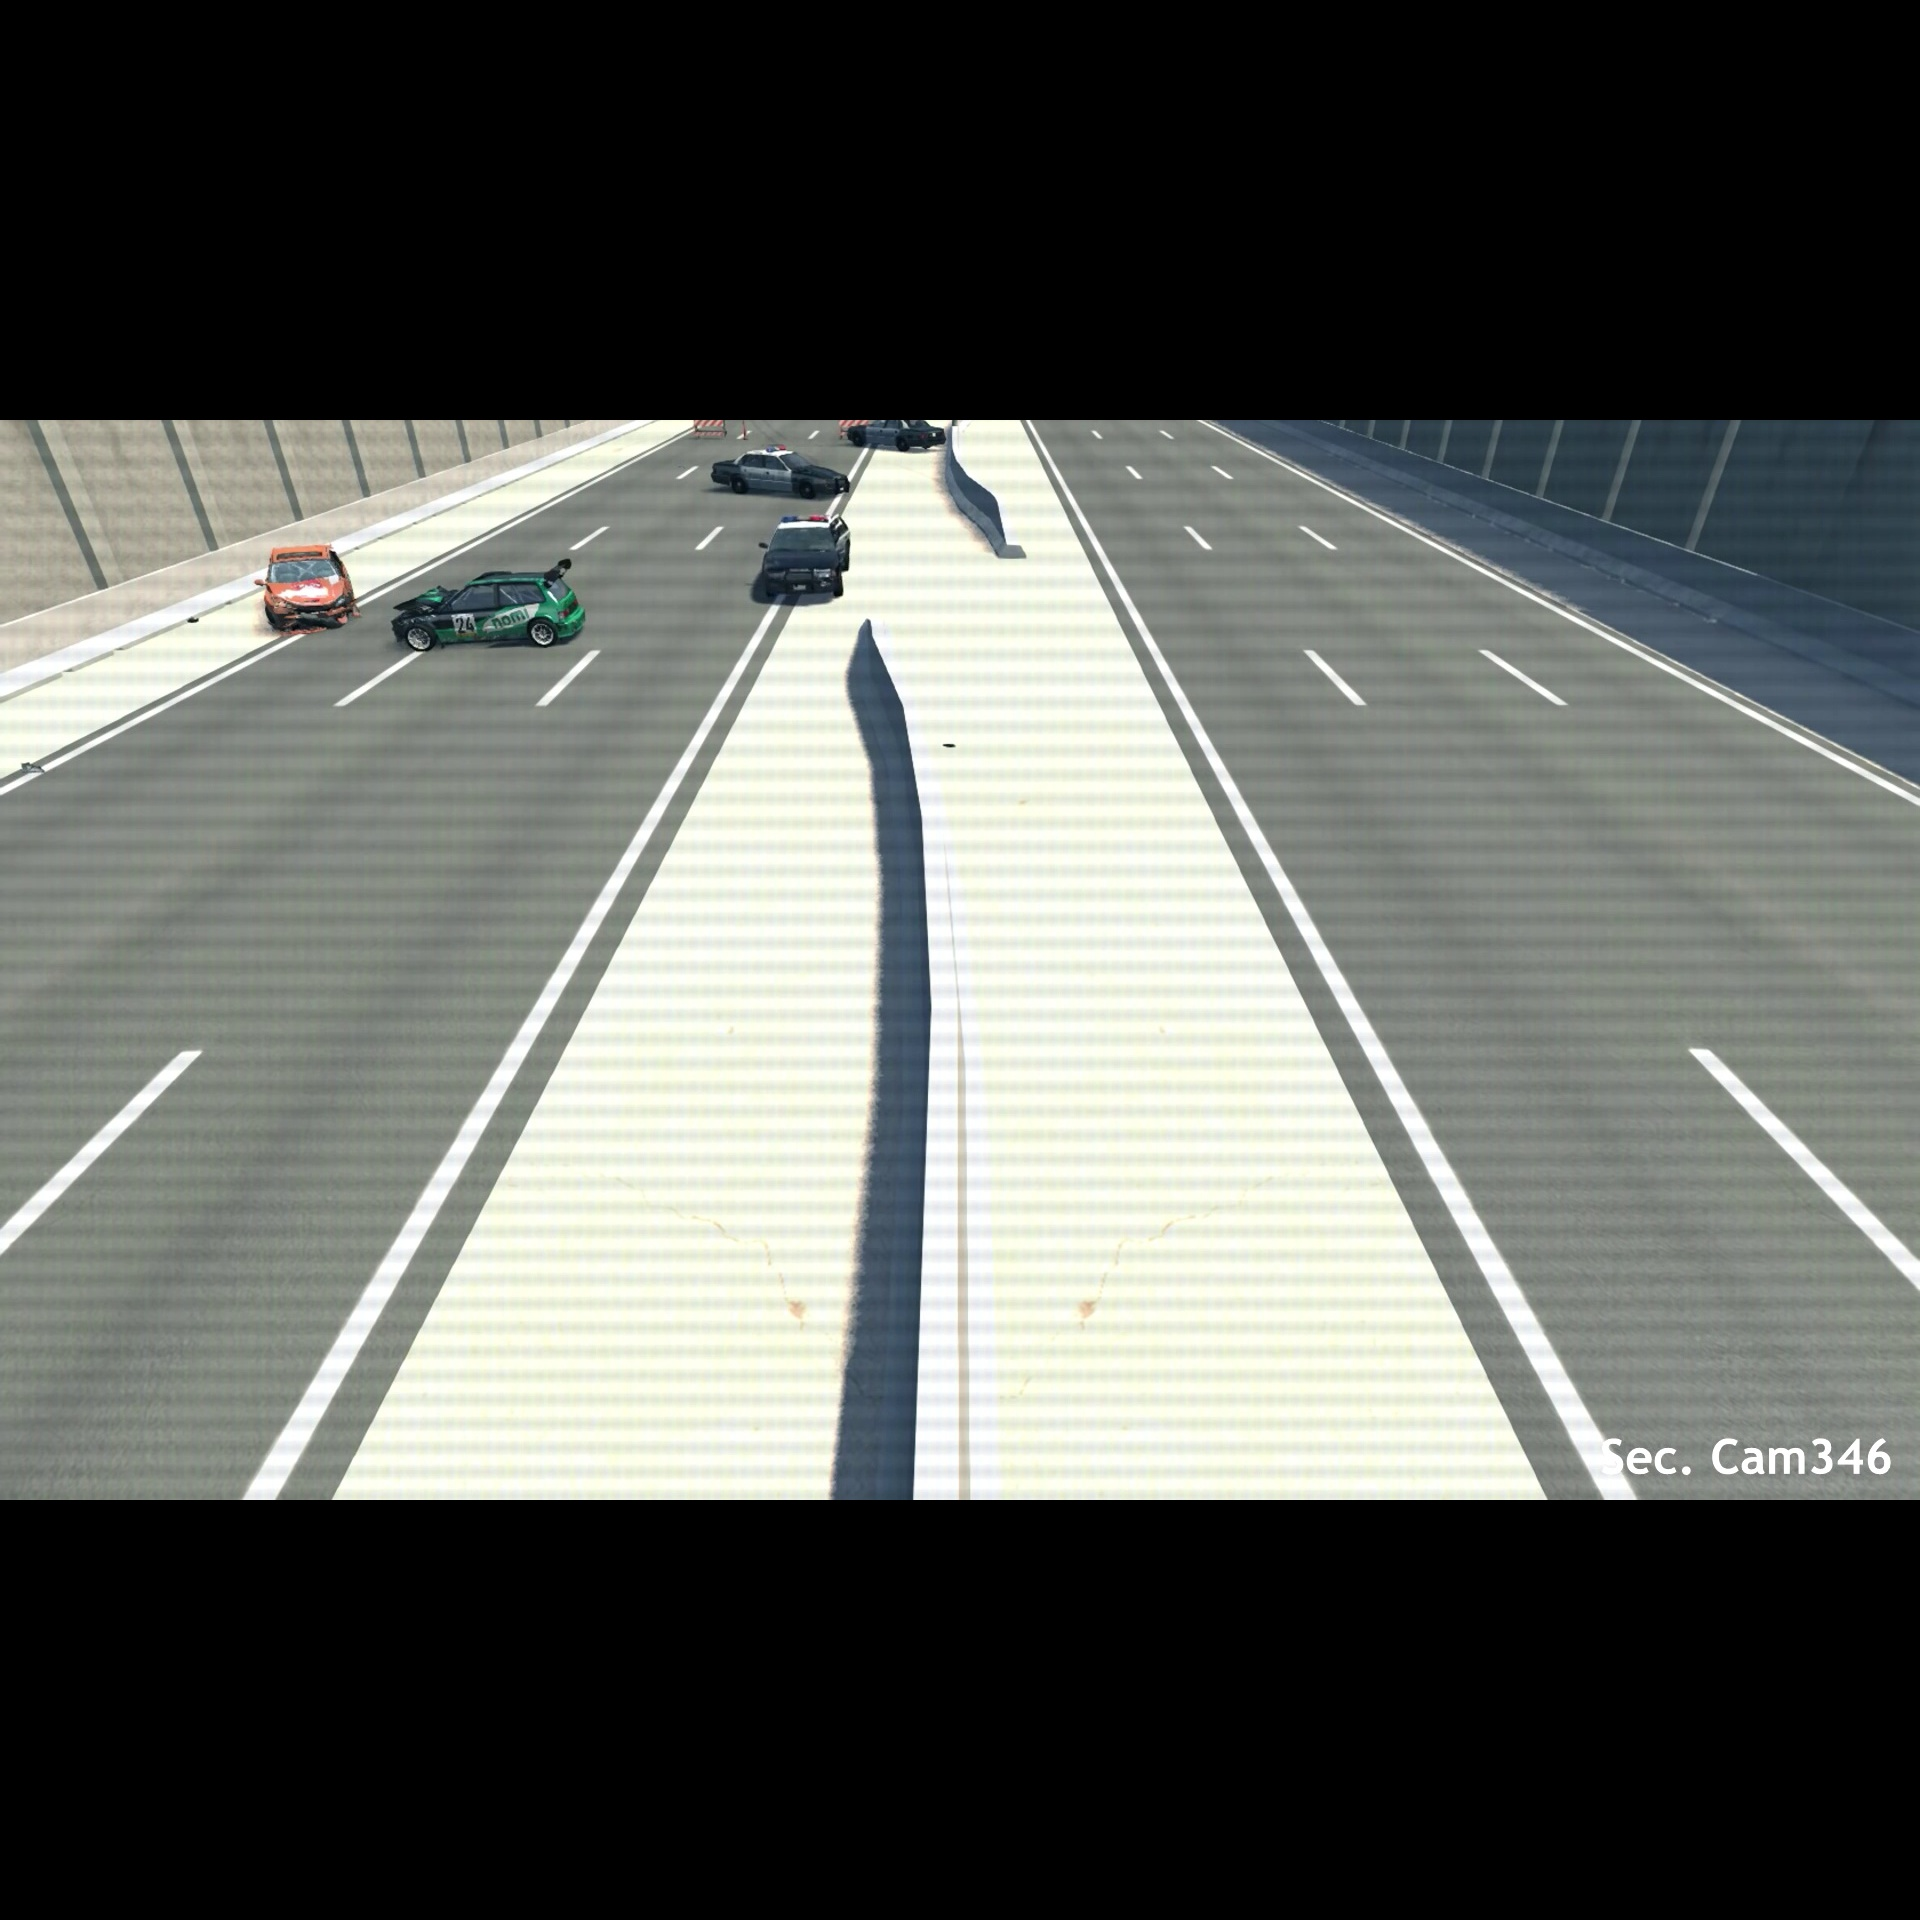vehicle: (390, 556, 589, 652), (255, 540, 360, 642), (756, 506, 855, 603), (707, 445, 855, 503), (844, 418, 948, 454)
